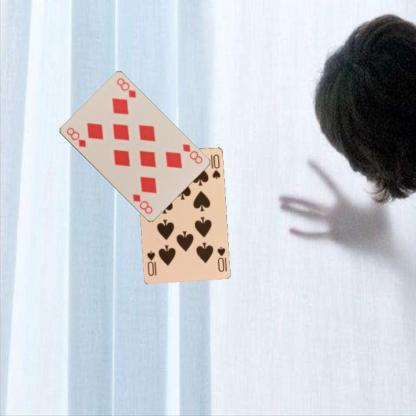10s: (214, 244, 226, 273)
8d: (64, 125, 87, 148), (180, 142, 203, 165)
